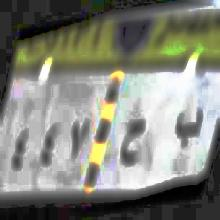4: (11, 123, 31, 179), (39, 122, 59, 175)
7: (69, 117, 92, 161)
7aa: (114, 112, 147, 172)
baa: (172, 101, 204, 153)
